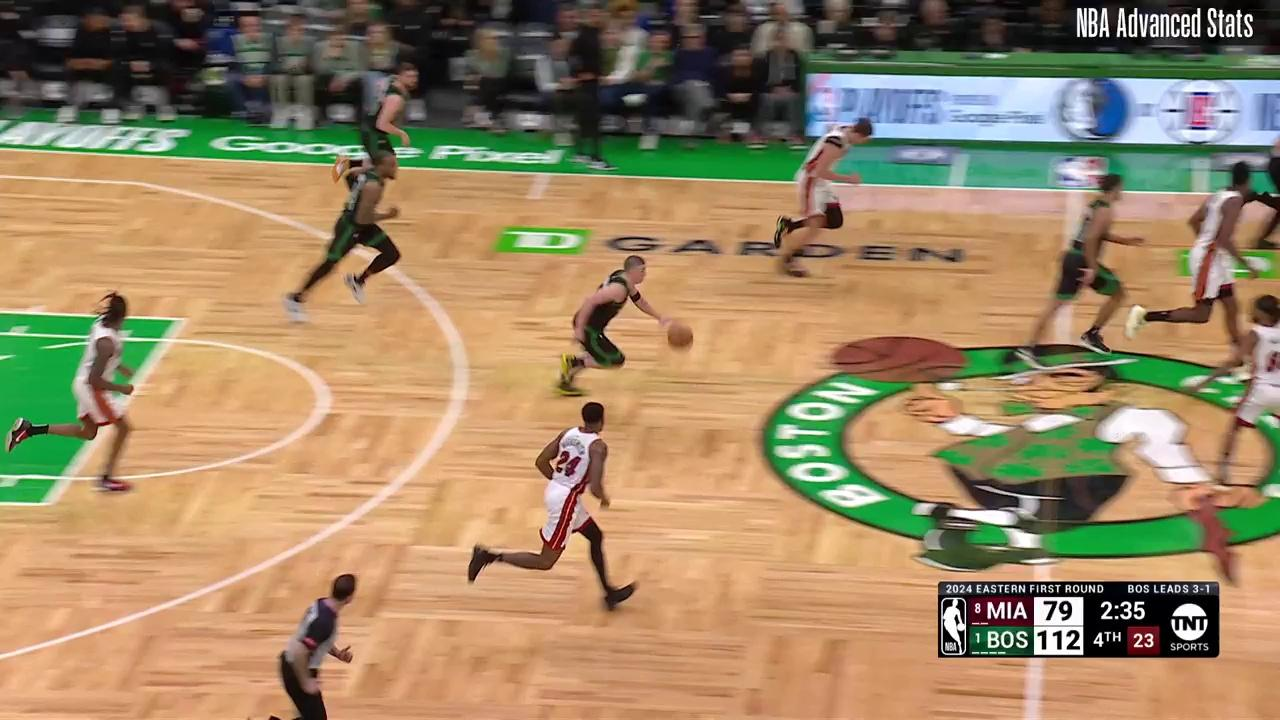free_adx: (172, 314, 187, 327)
free_asx: (39, 496, 56, 511)
half_sx: (1056, 177, 1091, 209)
mid_dx: (522, 189, 544, 207)
referee: (264, 571, 359, 720)
team: (1016, 173, 1125, 361), (284, 149, 402, 320), (555, 251, 675, 392), (330, 62, 421, 194)
team1: (466, 397, 637, 611), (7, 287, 136, 493), (1131, 165, 1259, 357), (1195, 296, 1280, 481), (776, 118, 873, 277)
timer: (1094, 598, 1151, 626)
